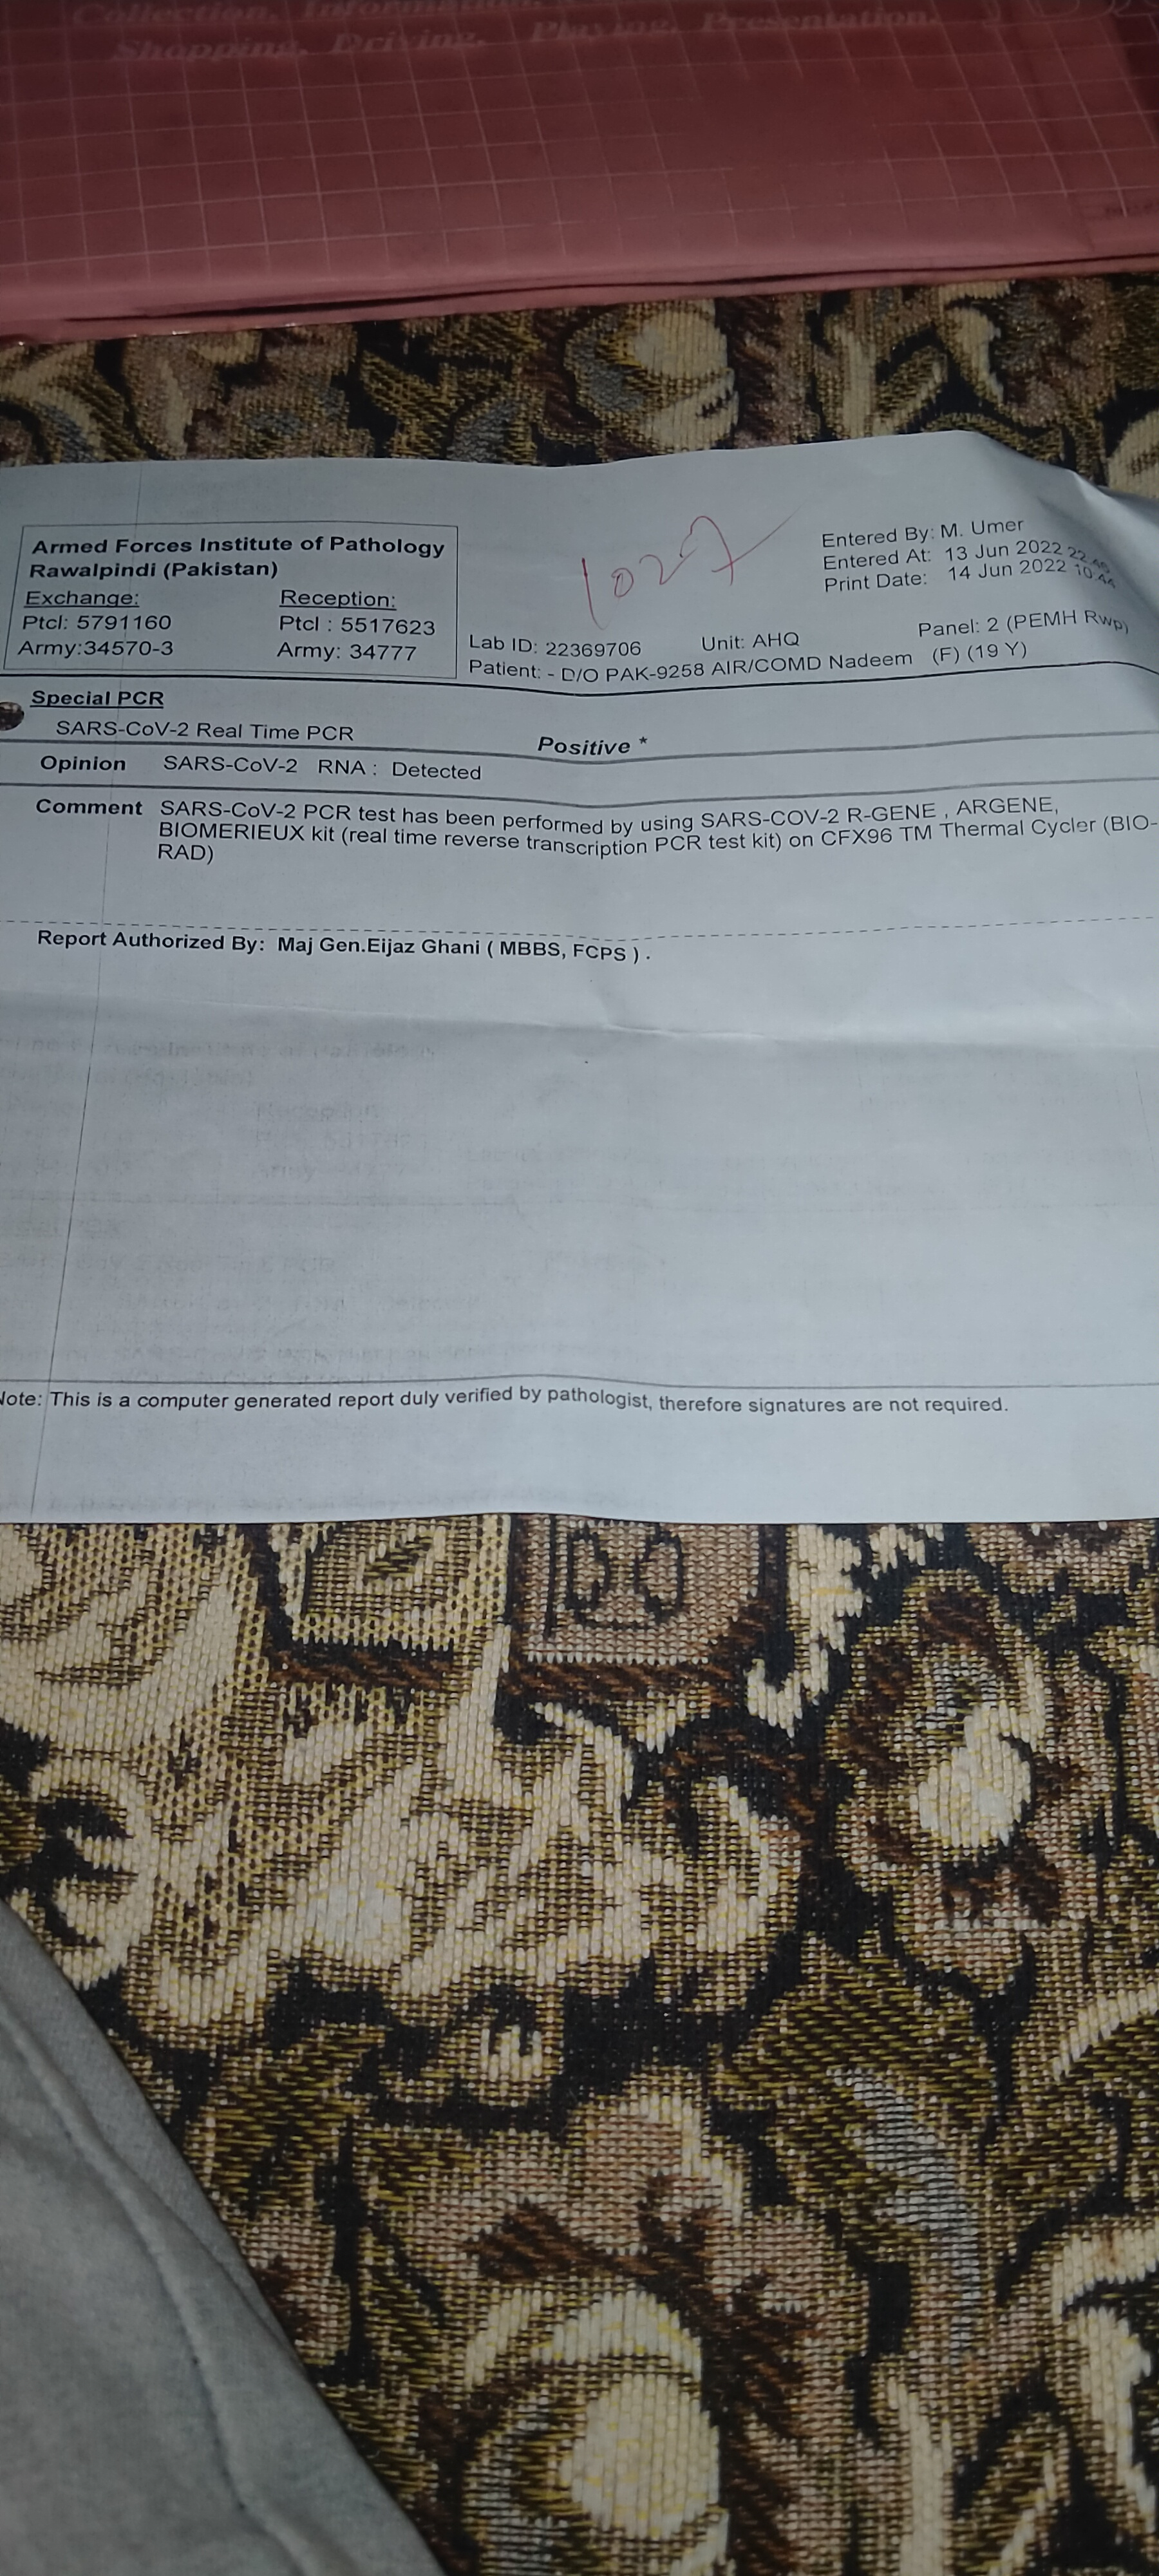report: (7, 674, 1159, 784)
